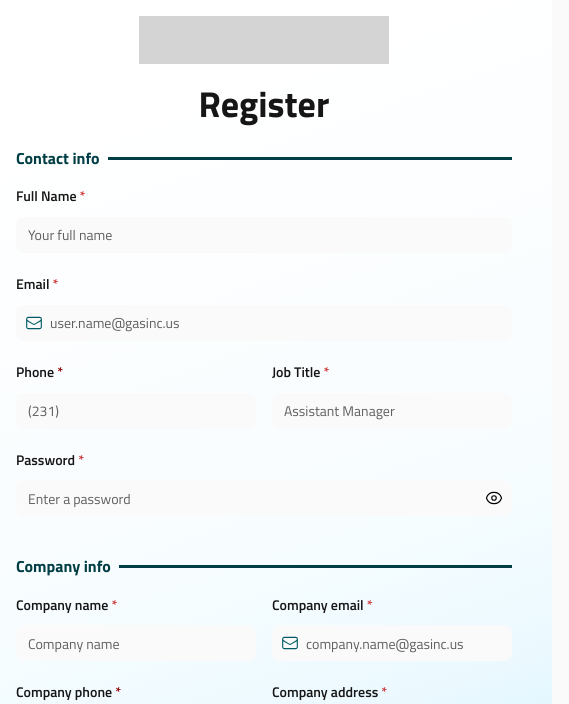
Test case: RegisterForm Component › should show error message for invalid email
Type "example" into the field with test id "email-input" at [264, 323], box [16,305,512,341]
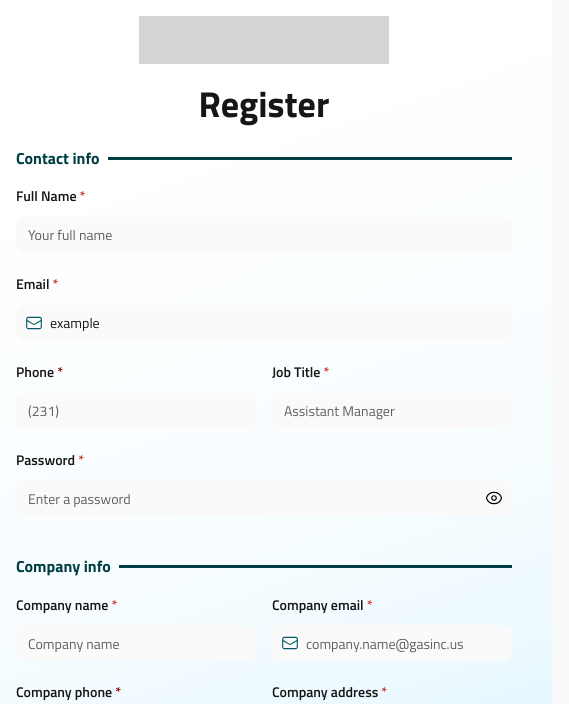
Press Tab
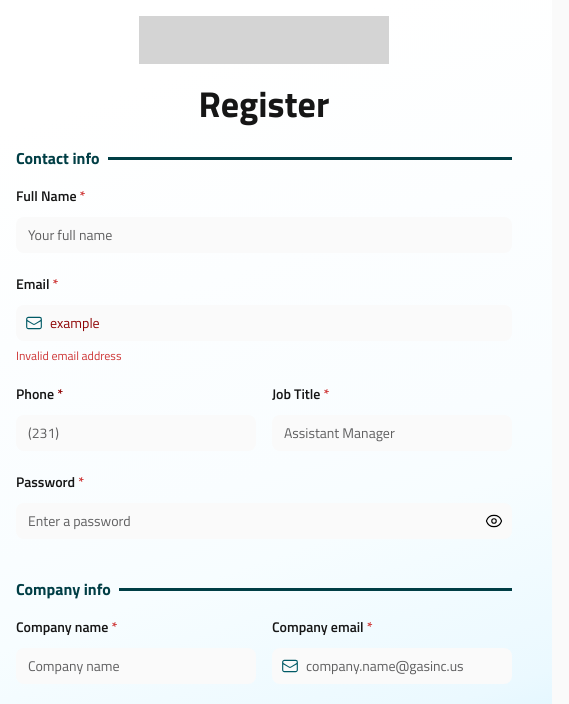
Expected: the text "Invalid email address" is shown, [16,346,122,365]
